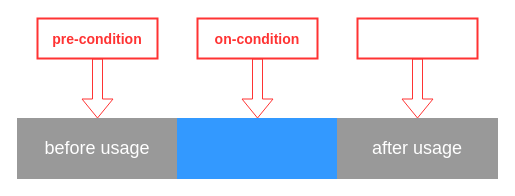
Some shapes in this 515 by 196 pixel diagram are drawn without their labels. Here are the shapes that lost their labels. From the top down, the centre of each, then its label:
point (417, 38): post-condition
point (257, 148): during usage
